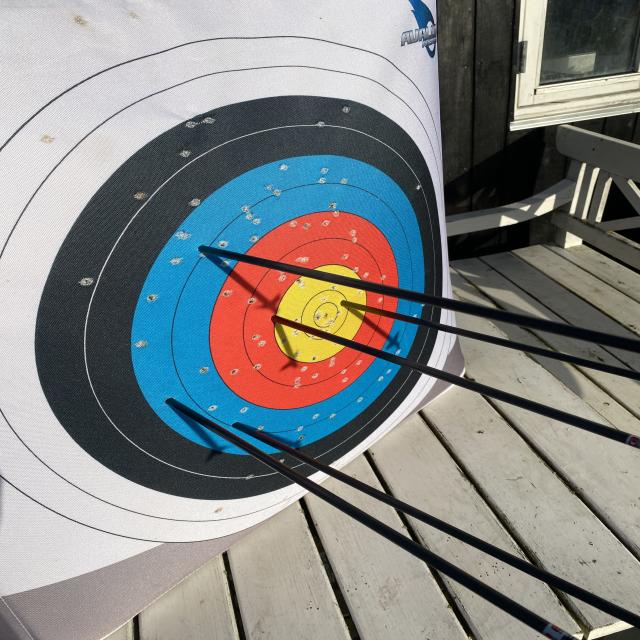Arrow_Blue: (152, 388, 194, 418), (191, 232, 221, 269), (227, 414, 256, 442)
Arrow_Red: (266, 308, 302, 338)
Arrow_Yellow: (334, 288, 360, 318)
